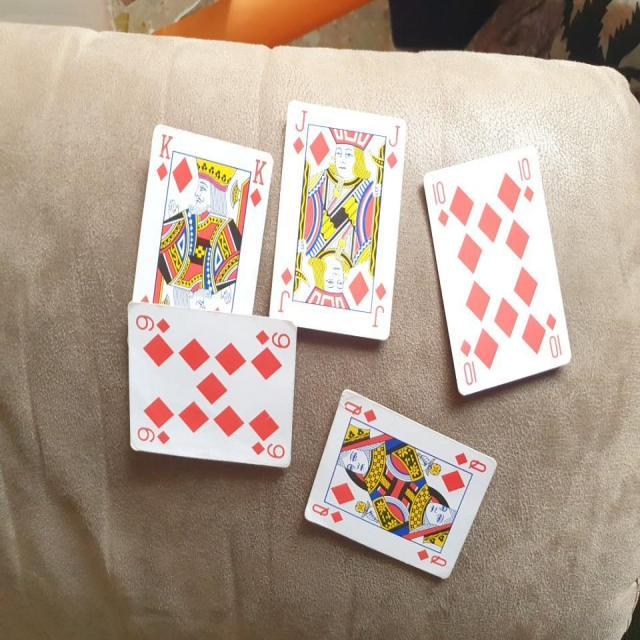10 of diamonds: (422, 140, 574, 396)
9 of diamonds: (126, 300, 296, 468)
jack of diamonds: (267, 100, 408, 344)
king of diamonds: (131, 122, 274, 318)
queen of diamonds: (301, 388, 498, 584)
